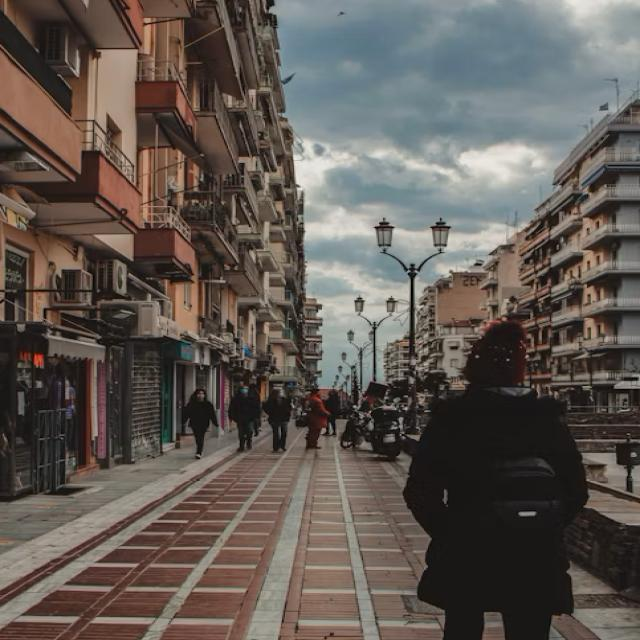Edited images: (379, 307, 608, 640)
